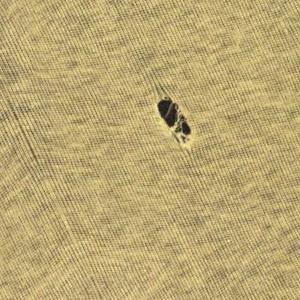hole: (154, 90, 199, 151)
